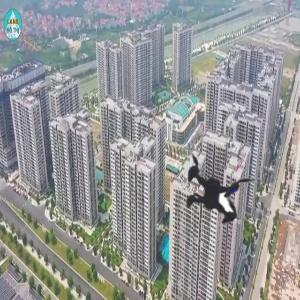drone: (134, 122, 286, 274)
